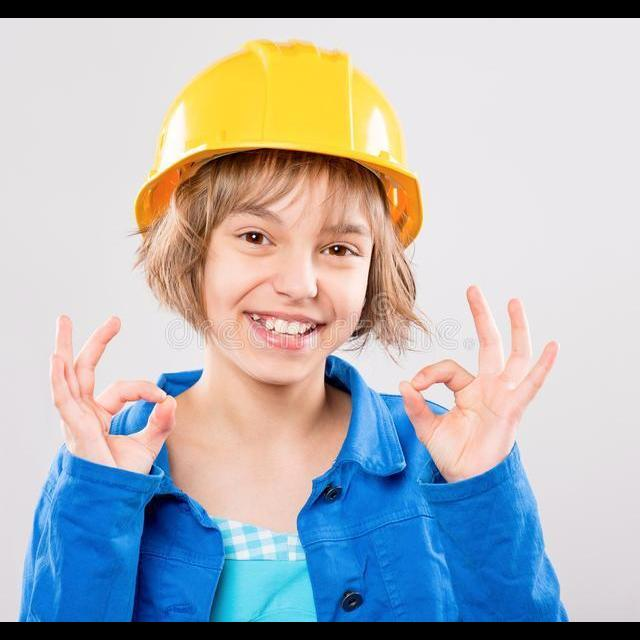Hardhat: (134, 39, 429, 241)
NO-Mask: (213, 300, 355, 382)
NO-Safety Vest: (114, 382, 460, 622)
Person: (3, 37, 564, 622)
